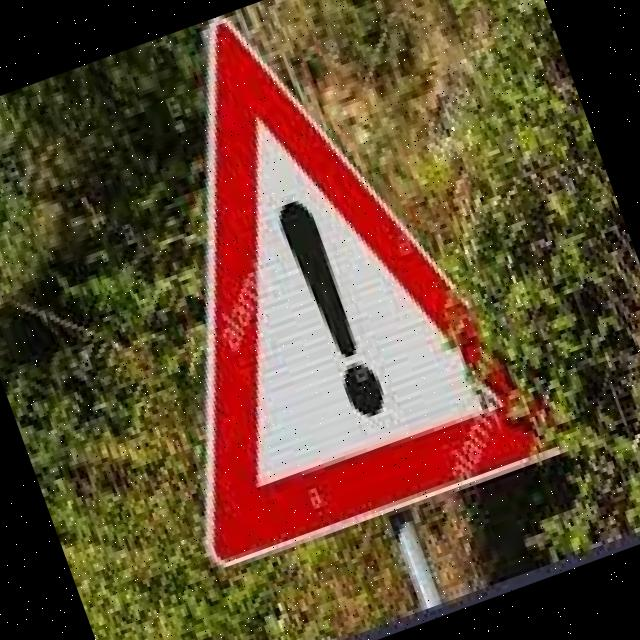warning: (36, 0, 577, 586)
